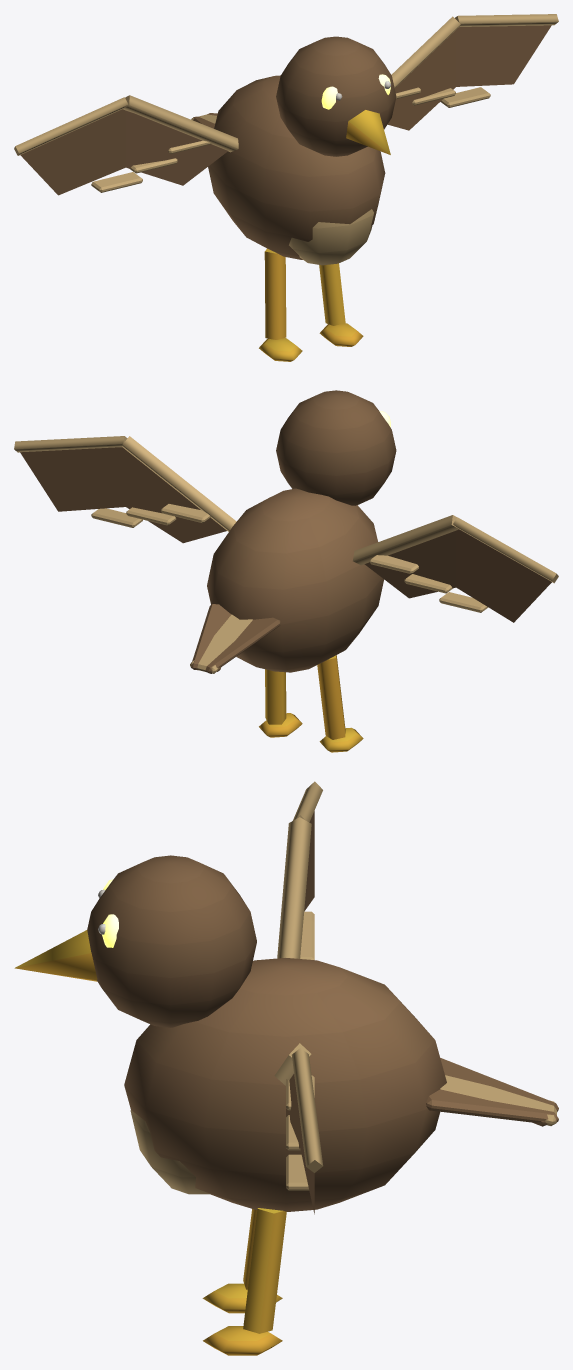
File: monster_cave_owl.glb
The picture shows the model from 3 angles, top to bottom: view 1: azimuth 30°, elevation 25°; view 2: azimuth 150°, elevation 25°; view 3: azimuth 270°, elevation 25°; orthographic projection. The views are drawn at different scales.
Parts seen in each view (by area): view 1: body_t0_bob2_palette, wingl_t0_palette, wingr_t0_palette, legl_t0_palette, legr_t0_palette, body_t0_bob2_glow_gold; view 2: body_t0_bob2_palette, wingr_t0_palette, wingl_t0_palette, tail_t0_palette, legl_t0_palette, legr_t0_palette; view 3: body_t0_bob2_palette, legr_t0_palette, wingl_t0_palette, tail_t0_palette, wingr_t0_palette, legl_t0_palette.
Boxes of the visible parts, bbox=[...] form: body_t0_bob2_palette: bbox=[208, 36, 396, 265]; wingl_t0_palette: bbox=[14, 95, 238, 195]; wingr_t0_palette: bbox=[387, 14, 558, 130]; legl_t0_palette: bbox=[259, 248, 302, 361]; legr_t0_palette: bbox=[319, 263, 363, 346]; body_t0_bob2_glow_gold: bbox=[321, 74, 390, 109]; body_t0_bob2_palette: bbox=[207, 390, 396, 672]; wingr_t0_palette: bbox=[14, 436, 236, 543]; wingl_t0_palette: bbox=[353, 515, 558, 622]; tail_t0_palette: bbox=[190, 604, 280, 673]; legl_t0_palette: bbox=[317, 655, 363, 752]; legr_t0_palette: bbox=[259, 669, 302, 737]; body_t0_bob2_palette: bbox=[14, 855, 446, 1211]; legr_t0_palette: bbox=[203, 1208, 286, 1355]; wingl_t0_palette: bbox=[277, 781, 322, 959]; tail_t0_palette: bbox=[426, 1058, 558, 1126]; wingr_t0_palette: bbox=[274, 1043, 323, 1214]; legl_t0_palette: bbox=[202, 1209, 282, 1313].
Bounding box in the file's own units: 0.6229 × 0.358 × 0.379.
